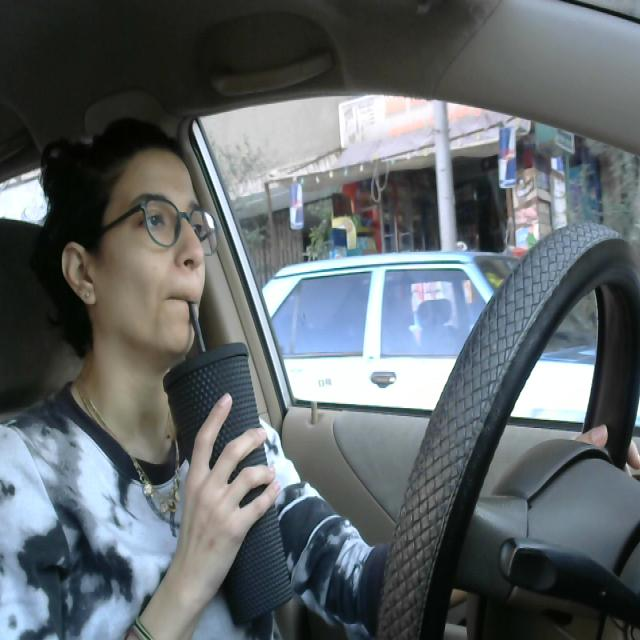drinking: (166, 284, 310, 632)
